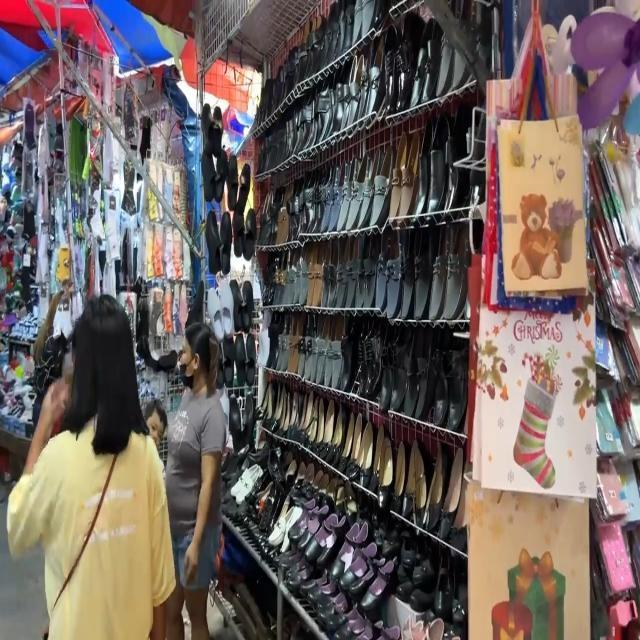hairnet: (179, 343, 202, 390)
